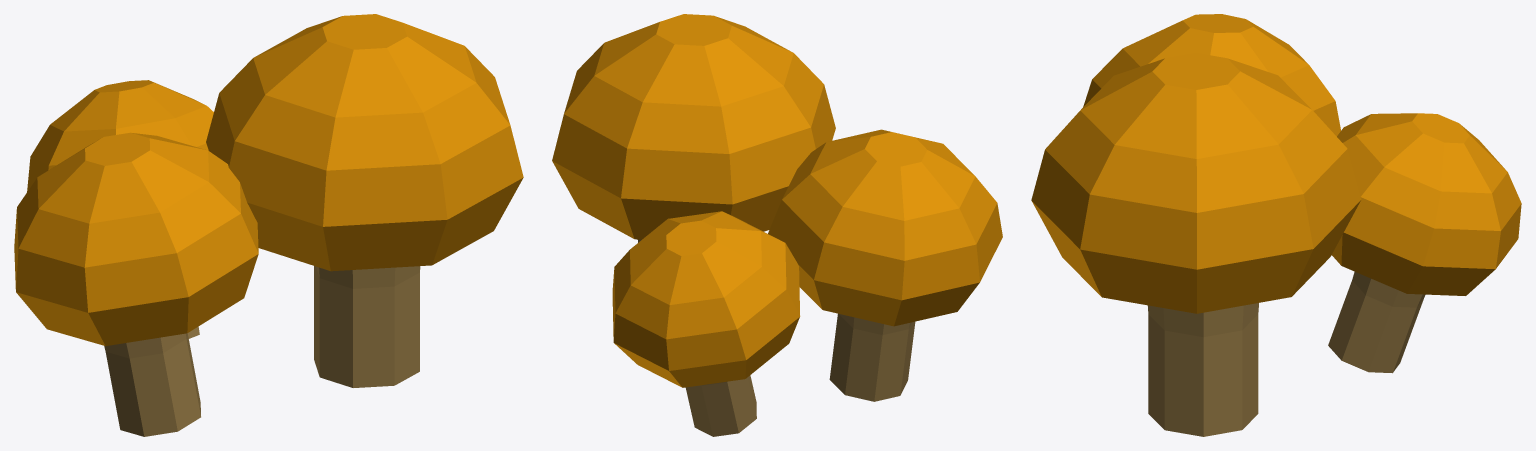
File: Mushroom2.fbx
3 views of the same model, side by side, from view 1: azimuth 30°, elevation 25°; view 2: azimuth 150°, elevation 25°; view 3: azimuth 270°, elevation 25° (orthographic). The views are drawn at different scales.
Parts seen in each view (by area): view 1: Mushroom2; view 2: Mushroom2; view 3: Mushroom2.
Boxes of the visible parts, bbox=[...] form: Mushroom2: bbox=[14, 14, 523, 436]; Mushroom2: bbox=[552, 14, 1002, 436]; Mushroom2: bbox=[1031, 14, 1521, 436].
Size of the model in its own units: 264 by 185 by 234.
